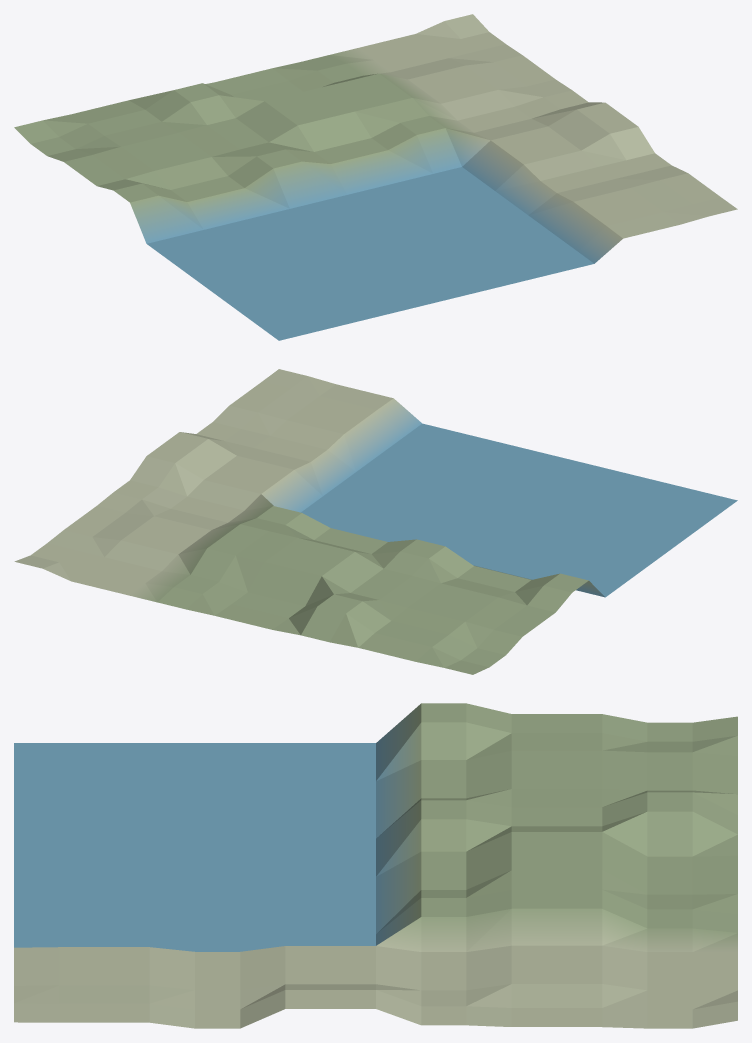
3 views of the same model, one above another, from view 1: azimuth 30°, elevation 25°; view 2: azimuth 150°, elevation 25°; view 3: azimuth 270°, elevation 25° (orthographic). The views are drawn at different scales.
Size of the model in its own units: 32 by 2.26 by 32.
